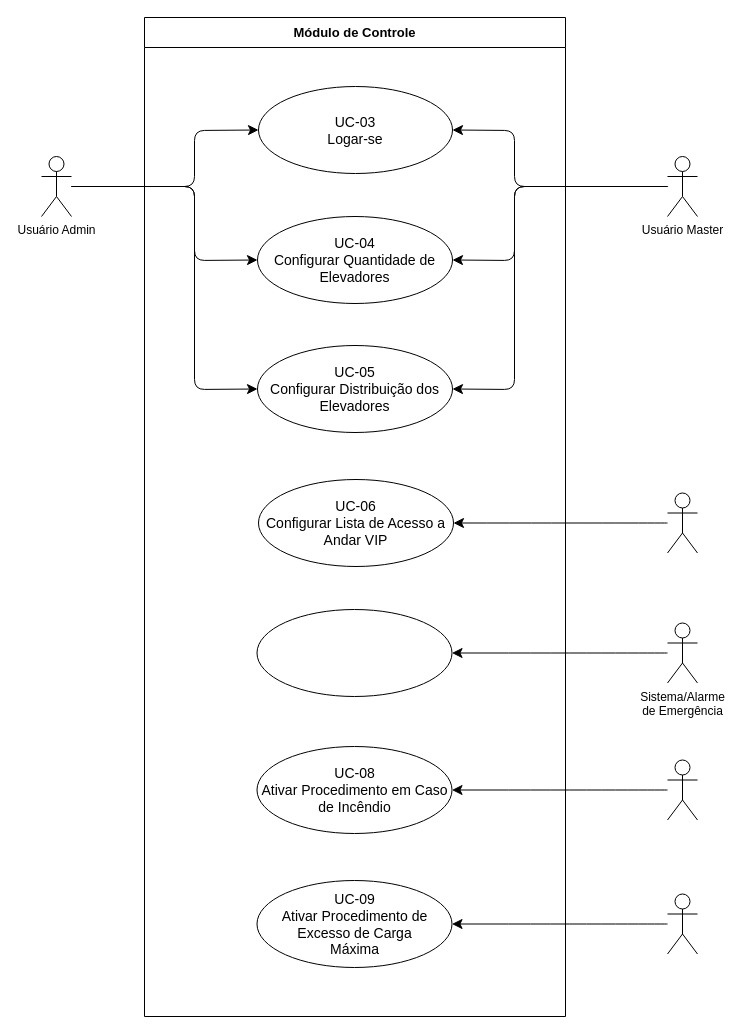
The diagram is 742 pixels wide and 1034 high, and some of its shapes have lost their labels. Each missing label, with the centre of its shape:
Balança do Elevador: (x=682, y=923)
Sistema/Alarme de Incêndio: (x=682, y=789)
UC-07 Ativar Procedimento de Emergência Geral: (x=354, y=652)
Usuário "dono de andar": (x=682, y=522)
